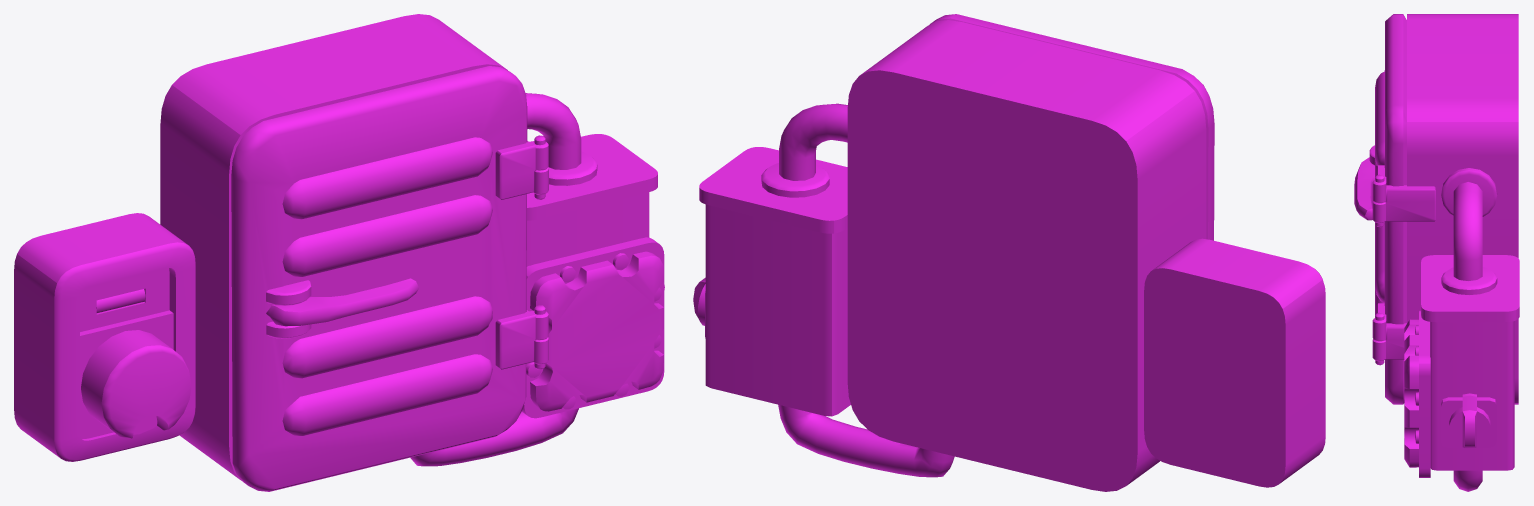
File: SM_FuseBox_Set1.FBX
The picture shows the model from 3 angles, left to right: view 1: azimuth 30°, elevation 25°; view 2: azimuth 150°, elevation 25°; view 3: azimuth 270°, elevation 25°; orthographic projection. The views are drawn at different scales.
Visible parts, largest first — view 1: FuseBoxSet1; view 2: FuseBoxSet1; view 3: FuseBoxSet1.
Part boxes in pixels (bbox=[...]): FuseBoxSet1: bbox=[14, 14, 664, 491]; FuseBoxSet1: bbox=[693, 14, 1325, 491]; FuseBoxSet1: bbox=[1354, 14, 1519, 491].
Bounding box in the file's own units: 94.91 × 63 × 27.04.
